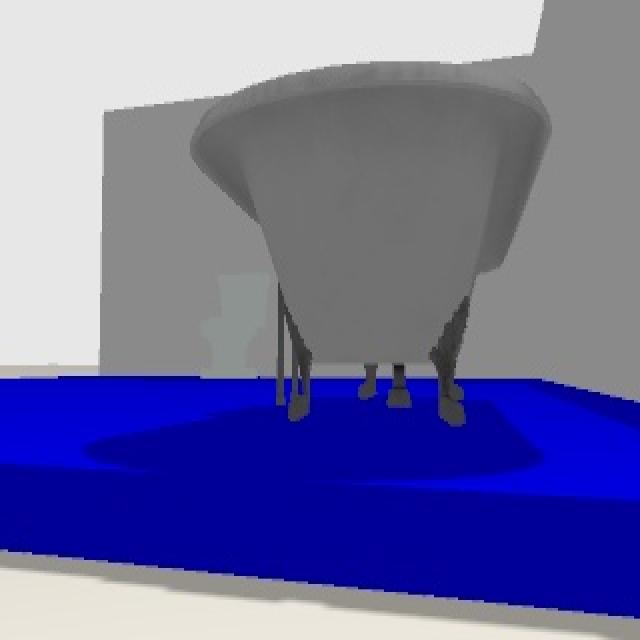bathtub: (186, 61, 552, 429)
